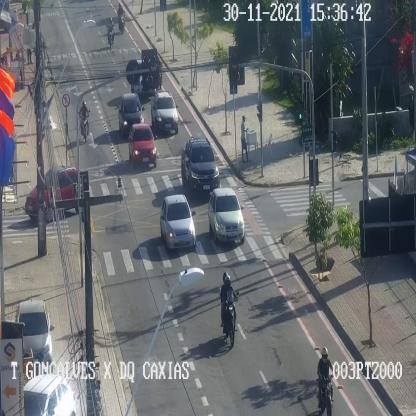car: (25, 166, 85, 221), (16, 301, 54, 366), (181, 136, 220, 197), (207, 185, 244, 248), (160, 193, 196, 252), (24, 376, 74, 416), (128, 124, 158, 174), (152, 91, 180, 138), (118, 92, 145, 138)
motorbike: (220, 271, 240, 349), (316, 346, 334, 416), (79, 101, 91, 143), (106, 17, 115, 50), (118, 4, 127, 34)
person: (240, 114, 249, 160)
